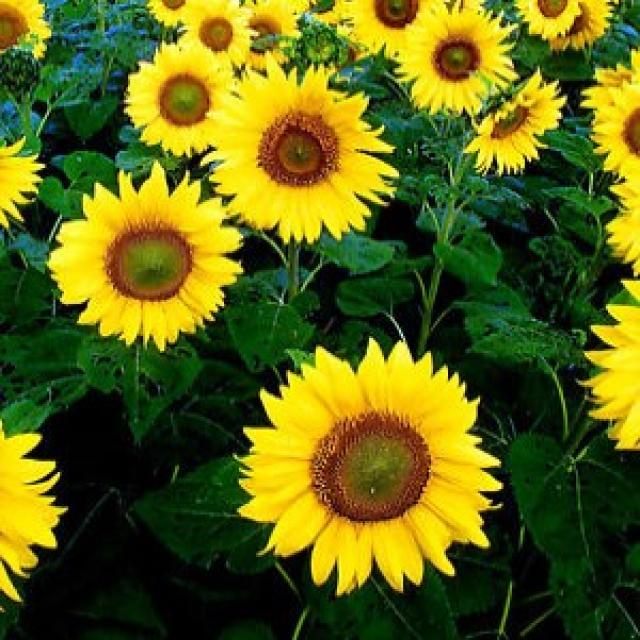sunflower: (226, 335, 504, 601), (48, 160, 242, 353), (215, 64, 395, 246), (124, 41, 238, 160), (402, 5, 518, 116), (466, 68, 564, 175)
